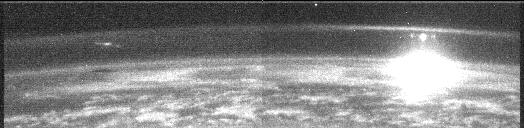positive: (407, 32, 439, 44)
